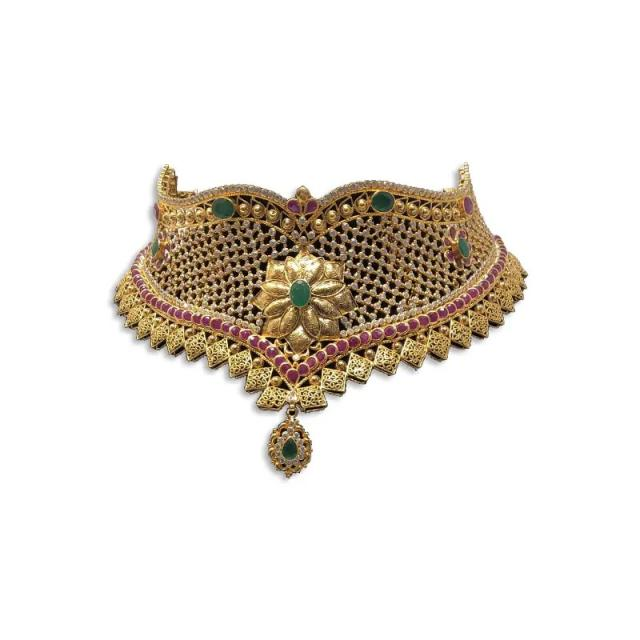missing gem: (298, 187, 309, 204)
